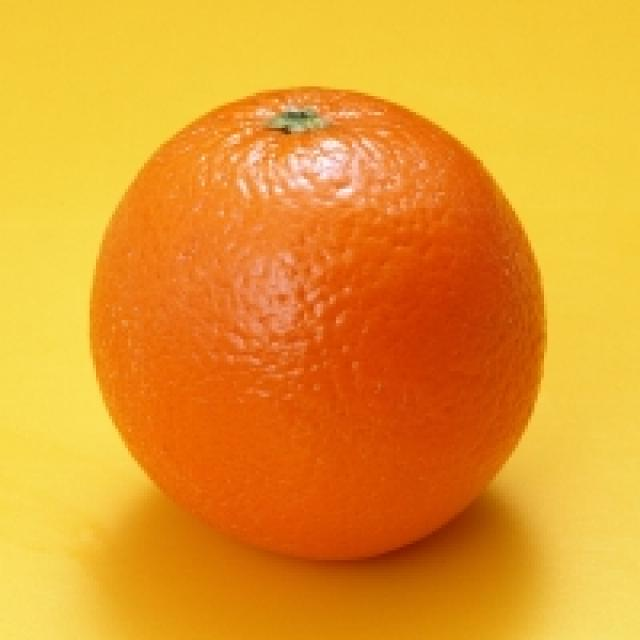Orange: (86, 86, 552, 568)
